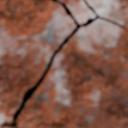brick: (17, 0, 127, 127), (0, 0, 74, 127), (61, 0, 93, 22)
crack: (2, 0, 126, 127)
